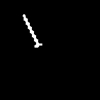half_double_crochet: (23, 15, 41, 46)
